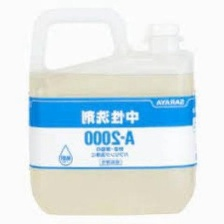cleaning_solution: (24, 4, 199, 220)
